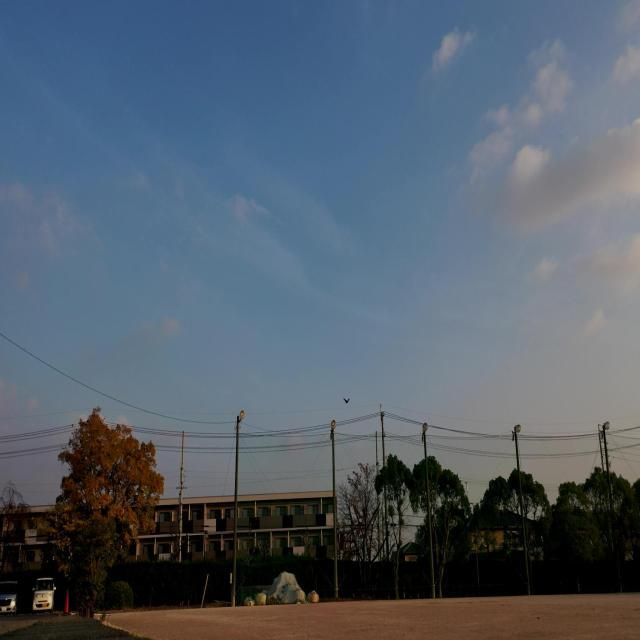Birds: (341, 395, 352, 408)
